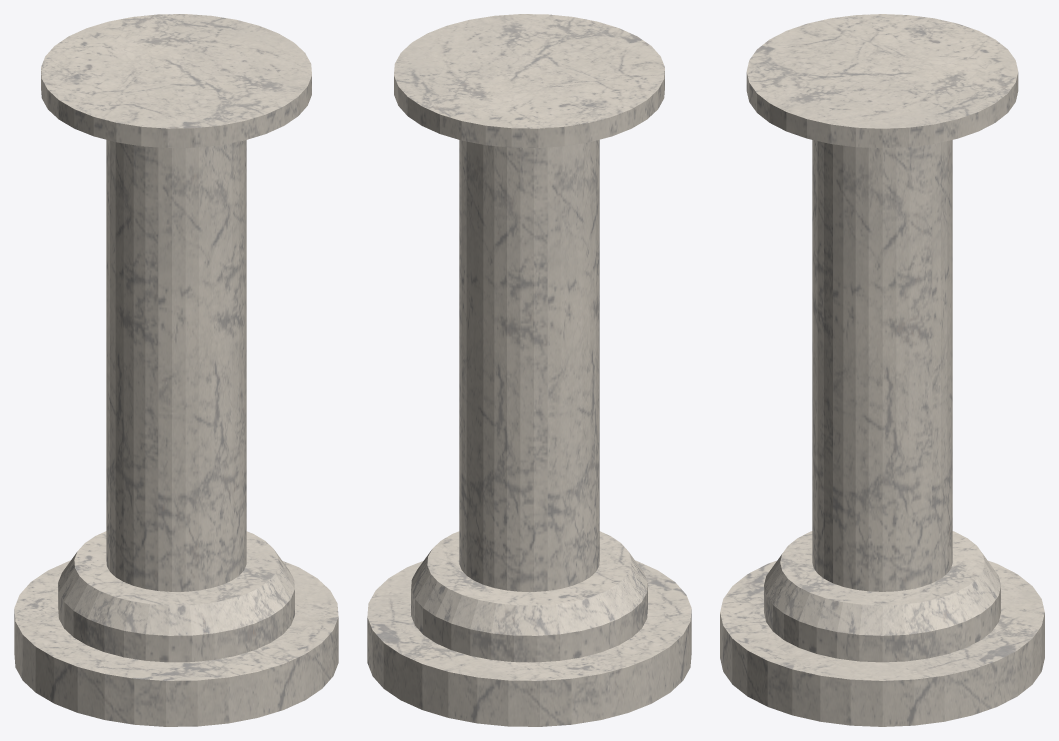
Rendered from saulemarmor2.glb.
3 views of the same model, side by side, from view 1: azimuth 30°, elevation 25°; view 2: azimuth 150°, elevation 25°; view 3: azimuth 270°, elevation 25° (orthographic).
Visible parts, largest first — view 1: Object_2; view 2: Object_2; view 3: Object_2.
Part boxes in pixels (x1,y1,x2,y2): Object_2: (14,14,338,726); Object_2: (367,14,691,726); Object_2: (720,14,1044,726).
Bounding box in the file's own units: 4.16 × 8.3 × 4.16.
Materials: 1 (1 with a texture image).
